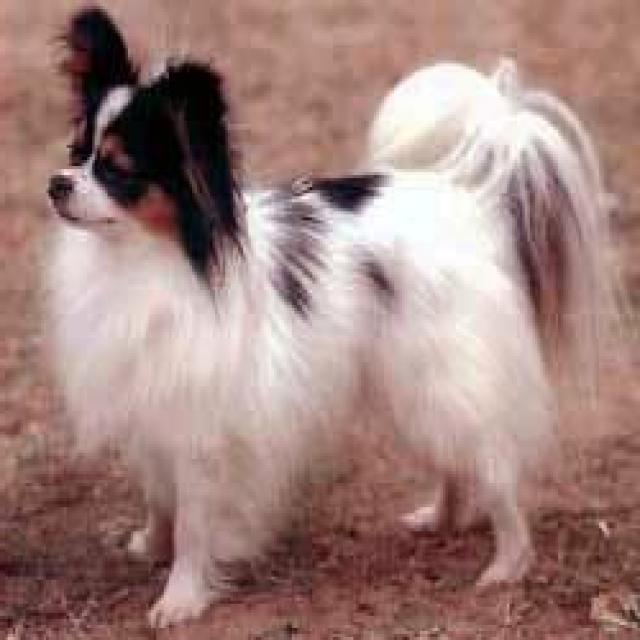papillon: (41, 3, 617, 625)
